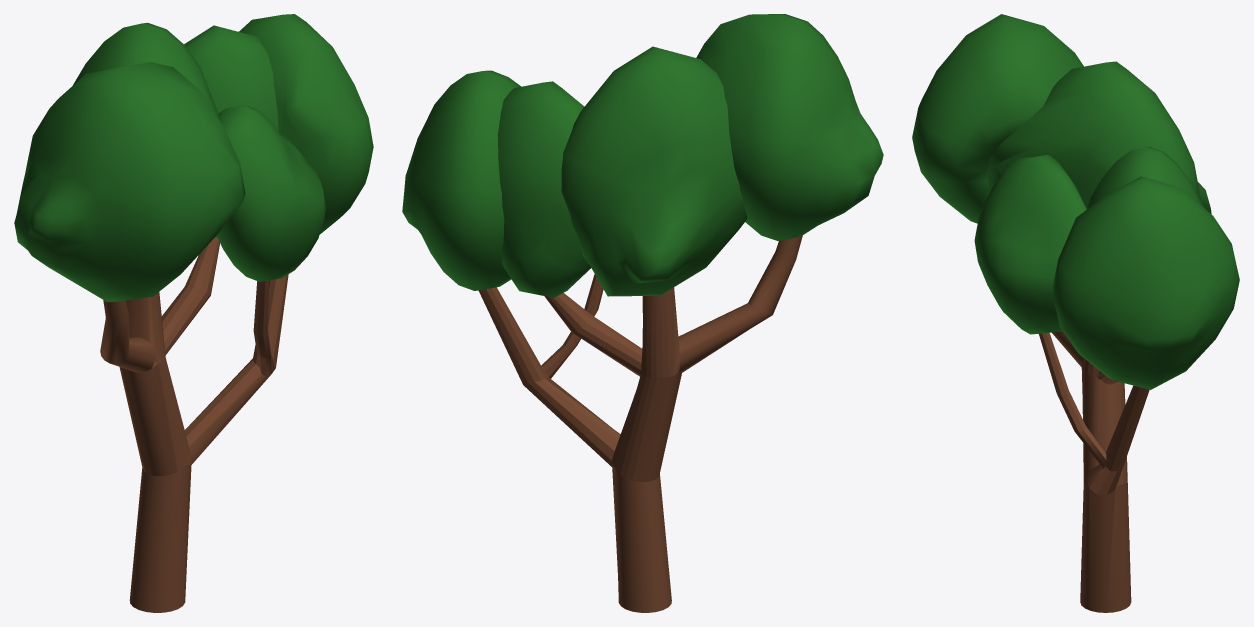
The model's file is RockClimbing_Model_Tree_#5_Rhys.fbx.
The picture shows the model from 3 angles, left to right: view 1: azimuth 30°, elevation 25°; view 2: azimuth 150°, elevation 25°; view 3: azimuth 270°, elevation 25°; orthographic projection. The views are drawn at different scales.
Visible parts, largest first — view 1: pCube2, Tree, pCube4, pCube3, pCube5, pCube1; view 2: pCube1, Tree, pCube2, pCube4, pCube5; view 3: pCube4, pCube2, pCube1, Tree, pCube3, pCube5.
Boxes of the visible parts, <box> form: pCube2: <box>14,62,245,302</box>; Tree: <box>100,237,288,612</box>; pCube4: <box>239,14,373,234</box>; pCube3: <box>216,105,325,281</box>; pCube5: <box>184,25,278,237</box>; pCube1: <box>73,22,220,121</box>; pCube1: <box>561,46,747,296</box>; Tree: <box>478,235,802,612</box>; pCube2: <box>696,14,883,240</box>; pCube4: <box>402,70,520,290</box>; pCube5: <box>497,81,590,297</box>; pCube4: <box>1052,176,1239,389</box>; pCube2: <box>912,14,1083,223</box>; pCube1: <box>987,61,1211,213</box>; Tree: <box>1039,330,1149,612</box>; pCube3: <box>974,154,1086,334</box>; pCube5: <box>1087,147,1200,209</box>.
Size of the model in its own units: 16.83 by 23.55 by 12.83.
